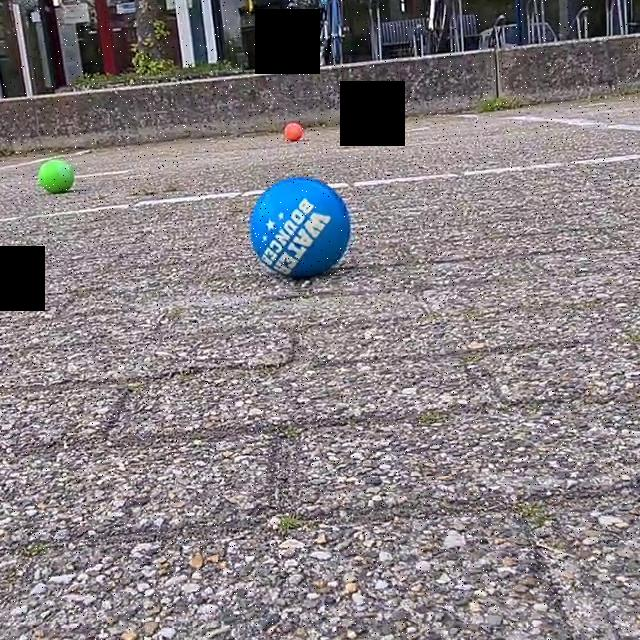ball: (35, 158, 77, 195), (282, 119, 304, 142)
